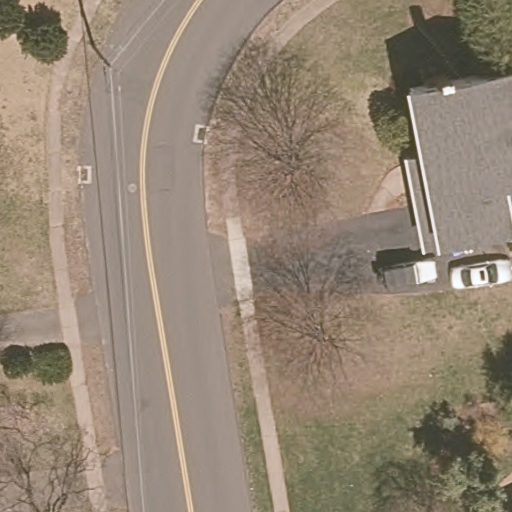DT: (88, 37, 117, 74)
